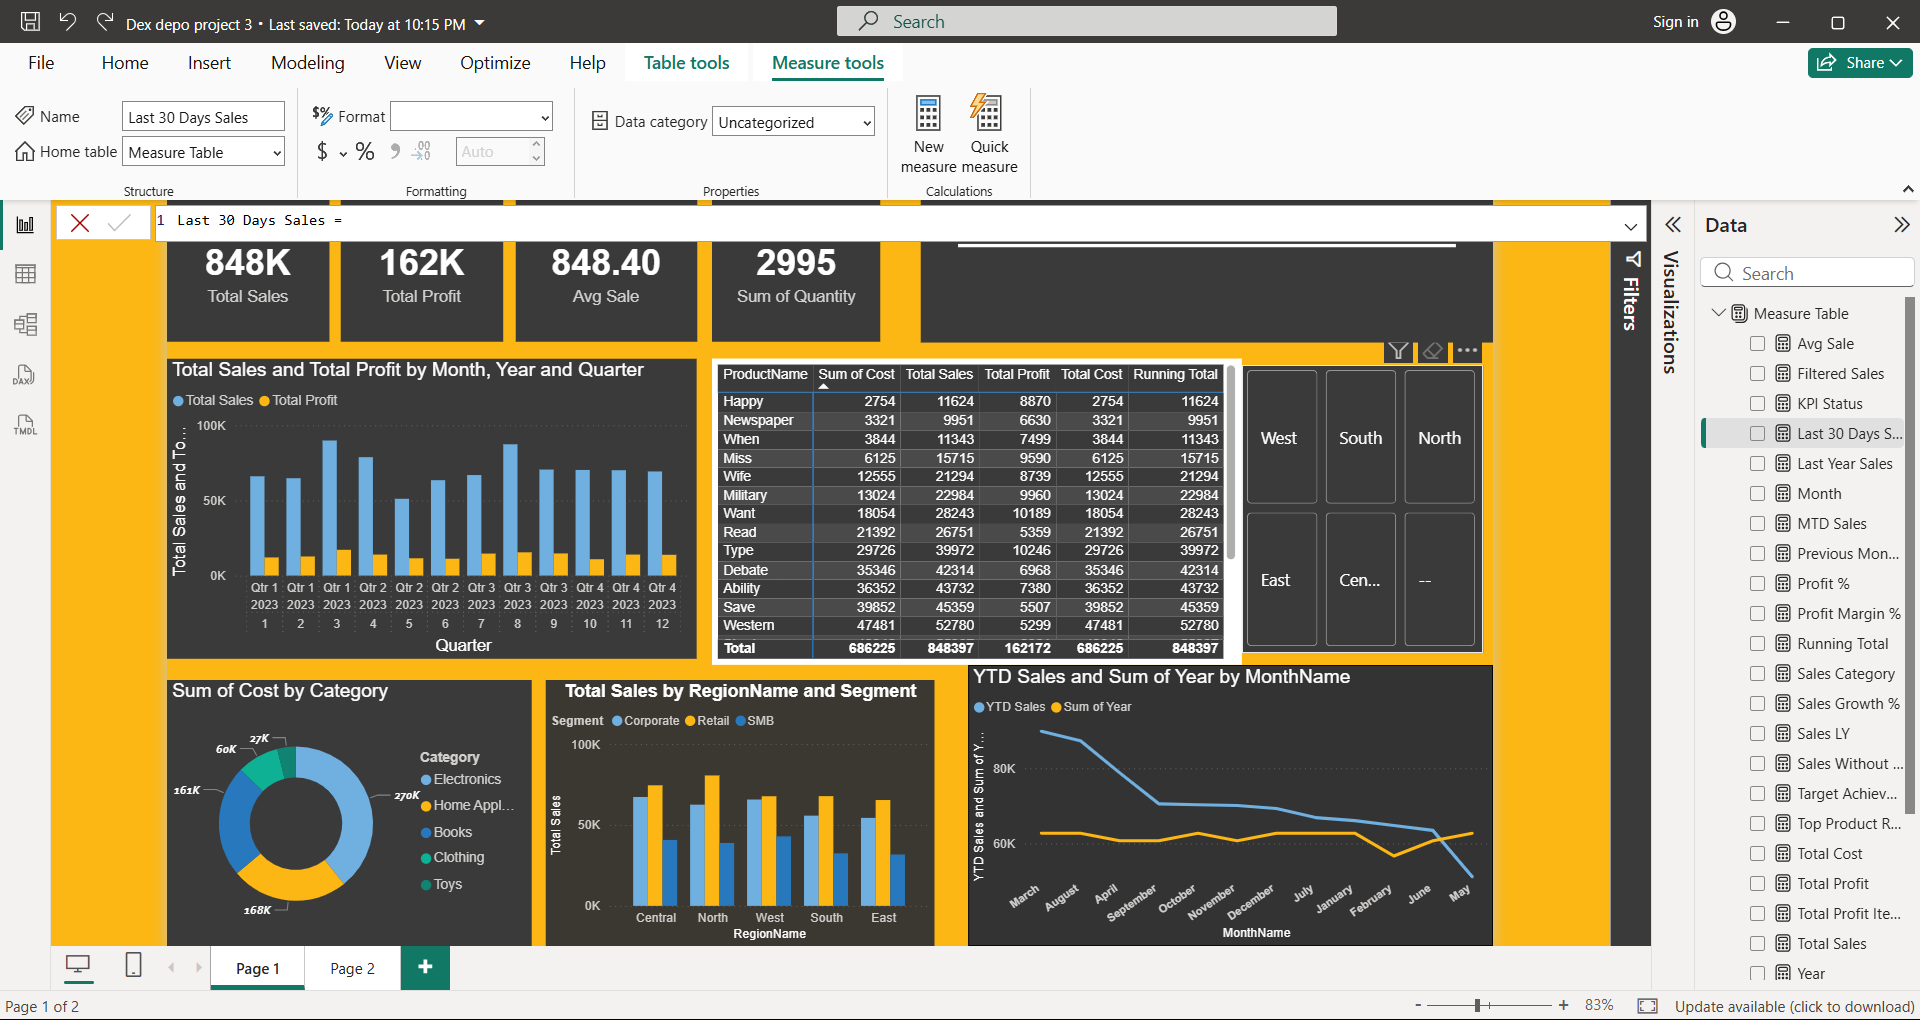

The page's visual inventory and layout, read from the dashboard file:
{"tool":"powerbi","page":{"name":"Page 1","canvas":[1280,720],"ordinal":0},"visuals":[{"type":"card","fields":{"Values":["Customer_Dim.Total Sales"]},"box":[0,0,156.5,137],"z":0},{"type":"card","fields":{"Values":["Customer_Dim.Total Profit"]},"box":[167.5,0,156.5,137],"z":1000},{"type":"card","fields":{"Values":["Customer_Dim.Avg Sale"]},"box":[336.3,0,174.9,137],"z":2000},{"type":"card","fields":{"Values":["Sum(Sales_Fact.Quantity)"]},"box":[525.8,0,162.6,137],"z":3000},{"type":"actionButton","box":[0,0,100,40],"z":4000},{"type":"lineClusteredColumnComboChart","fields":{"Category":["Date_Dim.Month","Date_Dim.Date.Variation.Date Hierarchy.Year","Date_Dim.Date.Variation.Date Hierarchy.Quarter","Date_Dim.Date.Variation.Date Hierarchy.Month"],"Y":["Customer_Dim.Total Sales","Customer_Dim.Total Profit"]},"box":[0,152.9,511.1,289.8],"z":5000},{"type":"lineClusteredColumnComboChart","fields":{"Category":["Region_Dim.RegionName"],"Y":["Customer_Dim.Total Sales"],"Series":["Customer_Dim.Segment"]},"box":[365.6,463.5,375.4,256.8],"z":6000},{"type":"donutChart","fields":{"Y":["Sum(Sales_Fact.Cost)"],"Category":["Product_Dim.Category"]},"box":[0,463.3,352.3,257],"z":7000},{"type":"pivotTable","fields":{"Values":["Sum(Sales_Fact.Cost)","Customer_Dim.Total Sales","Customer_Dim.Total Profit","Customer_Dim.Total Cost","Customer_Dim.Running Total"],"Rows":["Product_Dim.ProductName"]},"box":[526,153.2,511.5,295.6],"z":8000},{"type":"advancedSlicerVisual","fields":{"Values":["Region_Dim.RegionName"]},"box":[1037.5,159.3,232.8,277.5],"z":9000},{"type":"lineChart","fields":{"Category":["Date_Dim.MonthName"],"Y":["Customer_Dim.YTD Sales","Sum(Date_Dim.Year)"]},"box":[773.3,448.8,506.7,271.4],"z":10000},{"type":"textbox","box":[727.5,0,552.5,137.5],"z":11000}]}

Visuals, with their boxes on the page's 1280x720 design canvas (x1, y1, x2, y2). These are canvas units, not pixel positions in the 1920x1020 screenshot, which may show the page scaled, cropped or inside an application window:
card - Customer_Dim.Total Sales: <bbox>0, 0, 156, 137</bbox>
card - Customer_Dim.Total Profit: <bbox>168, 0, 324, 137</bbox>
card - Customer_Dim.Avg Sale: <bbox>336, 0, 511, 137</bbox>
card - Sum(Sales_Fact.Quantity): <bbox>526, 0, 688, 137</bbox>
actionButton: <bbox>0, 0, 100, 40</bbox>
lineClusteredColumnComboChart - Date_Dim.Month x Date_Dim.Date.Variation.Date Hierarchy.Year: <bbox>0, 153, 511, 443</bbox>
lineClusteredColumnComboChart - Region_Dim.RegionName x Customer_Dim.Total Sales: <bbox>366, 464, 741, 720</bbox>
donutChart - Sum(Sales_Fact.Cost) x Product_Dim.Category: <bbox>0, 463, 352, 720</bbox>
pivotTable - Sum(Sales_Fact.Cost) x Customer_Dim.Total Sales: <bbox>526, 153, 1038, 449</bbox>
advancedSlicerVisual - Region_Dim.RegionName: <bbox>1038, 159, 1270, 437</bbox>
lineChart - Date_Dim.MonthName x Customer_Dim.YTD Sales: <bbox>773, 449, 1280, 720</bbox>
textbox: <bbox>728, 0, 1280, 138</bbox>
